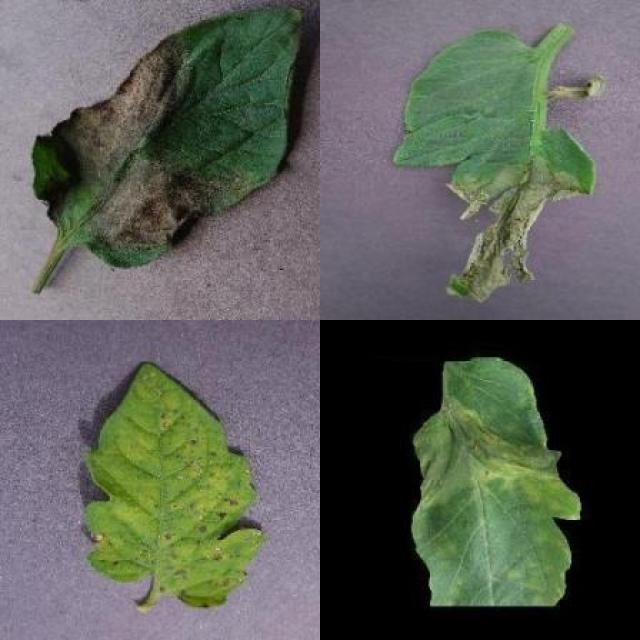Late Blight: (31, 0, 305, 270), (388, 29, 606, 304), (407, 358, 583, 605)
Septoria: (85, 362, 262, 607)
